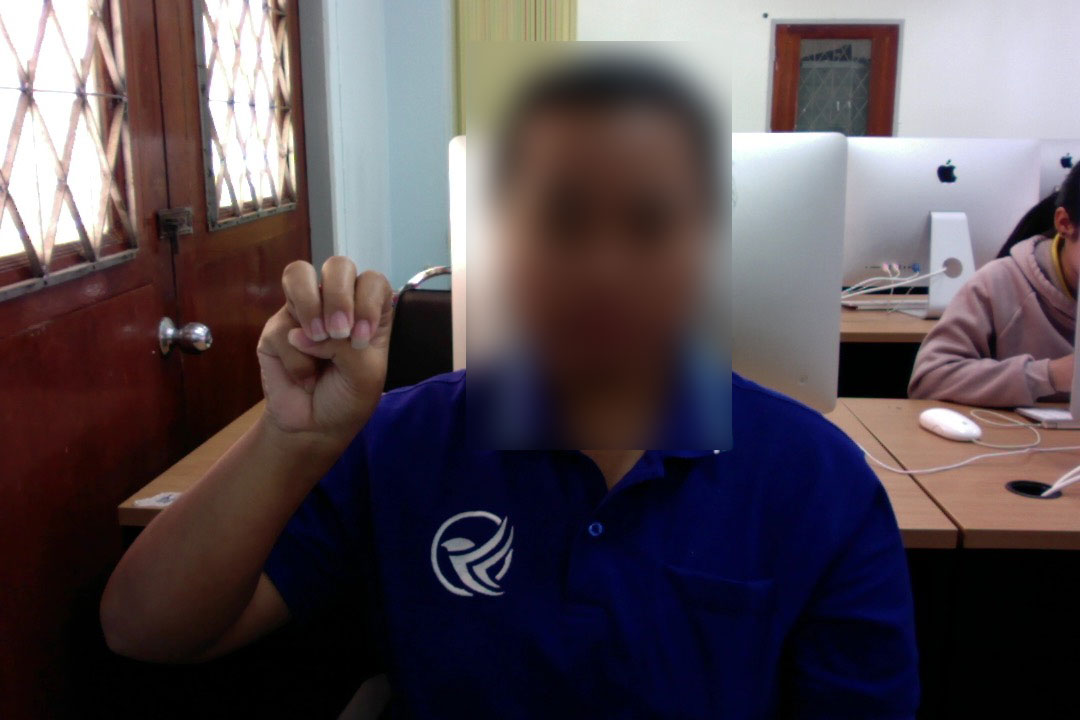mor: (247, 251, 399, 459)
